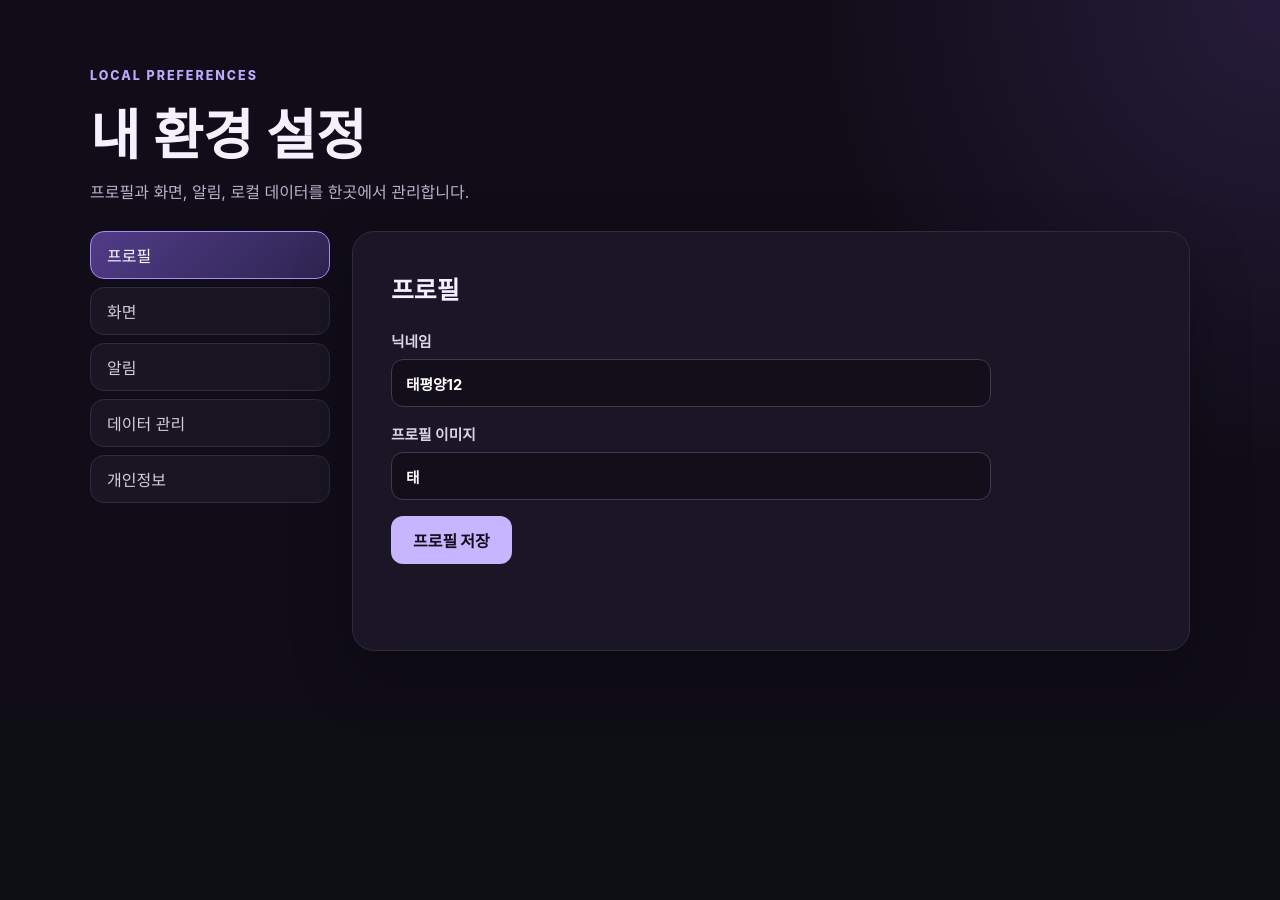
Test: 설정 화면 › 잘못된 알림 시간은 저장하지 않는다
Click the tab "알림" at (210, 367), box 90,343 -> 330,391
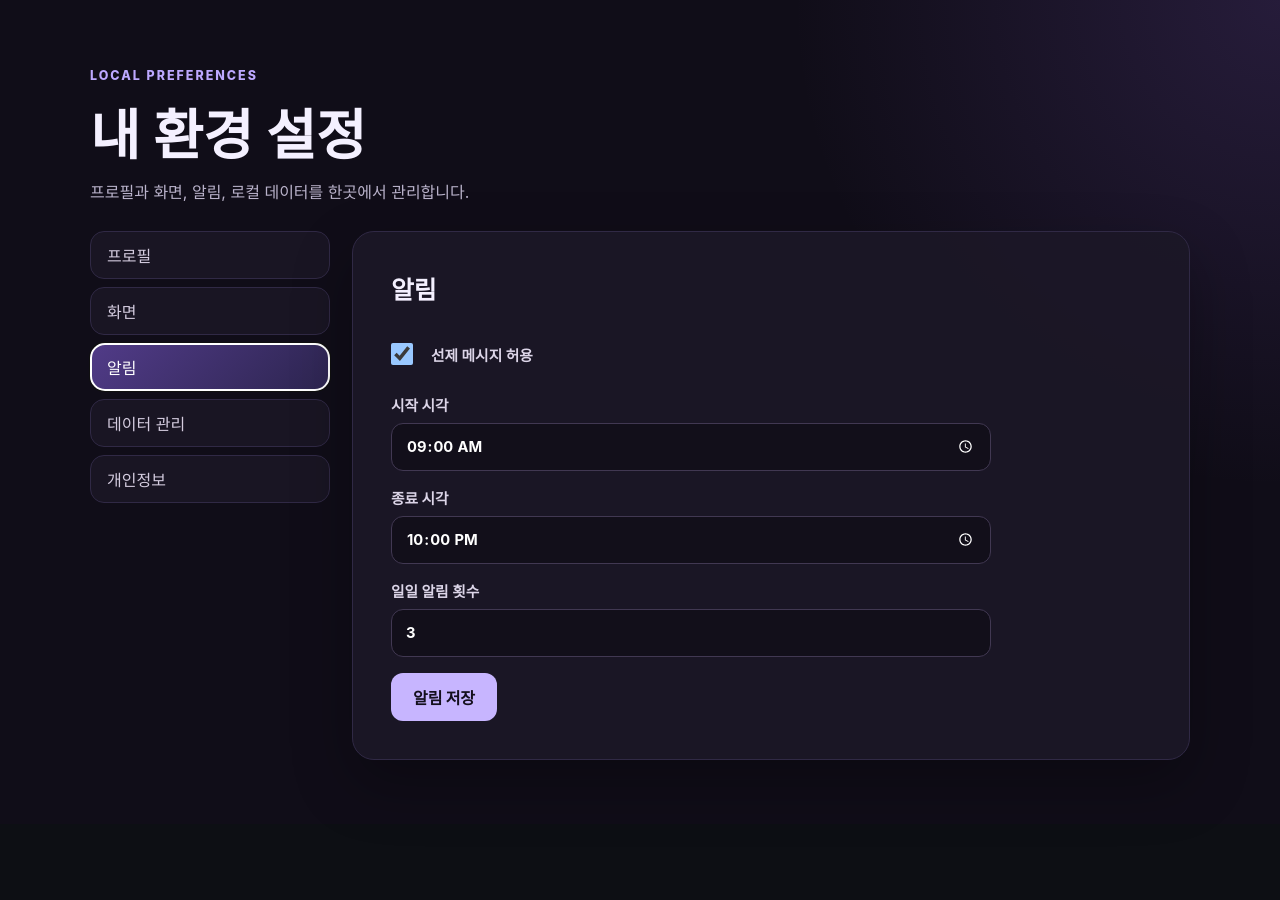
Replace the text in the time field labelled "시작 시각" with "22:00" at (691, 447), box 391,423 -> 991,471
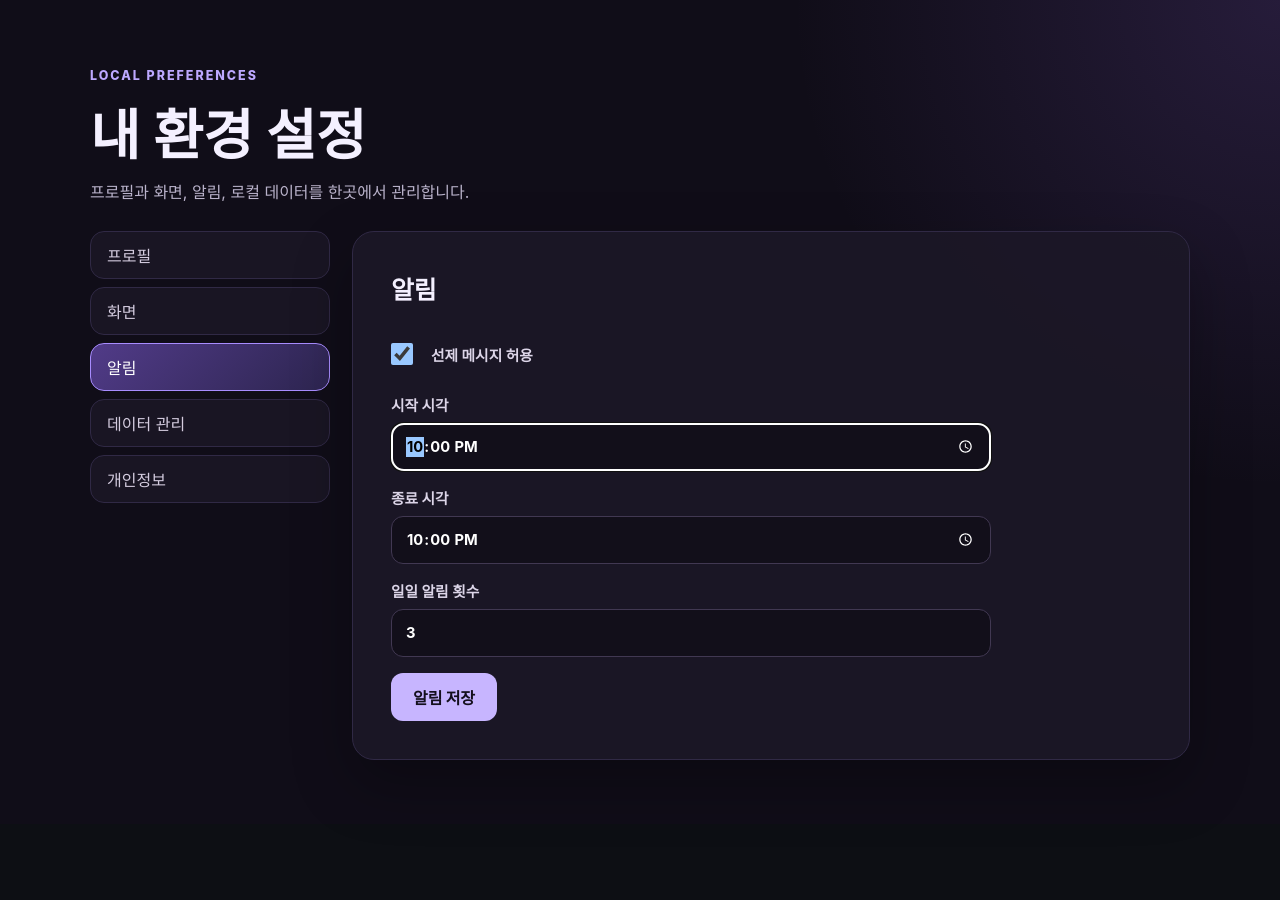
Replace the text in the time field labelled "종료 시각" with "09:00" at (691, 540), box 391,516 -> 991,564
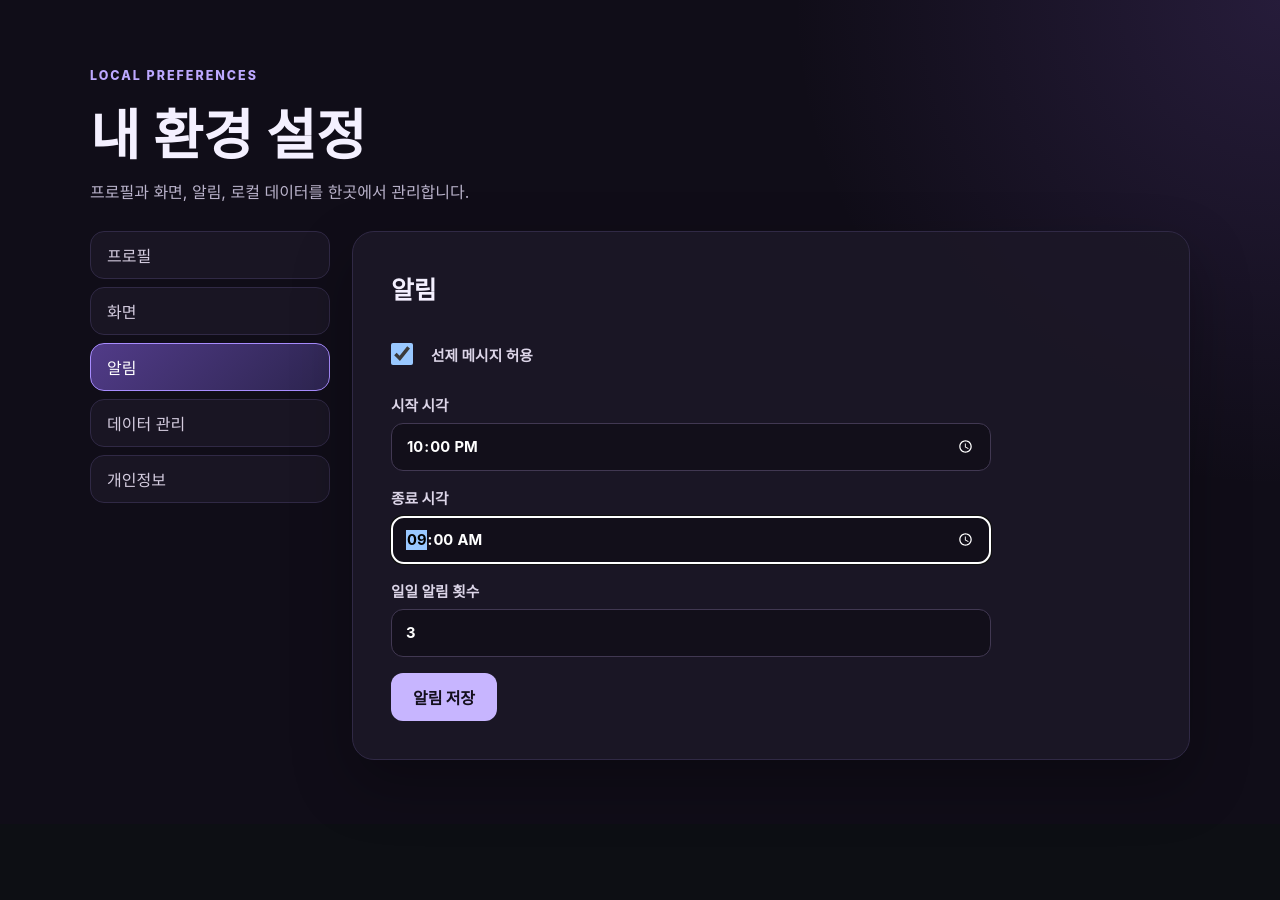
Click the button "알림 저장" at (444, 697), box 391,673 -> 497,721
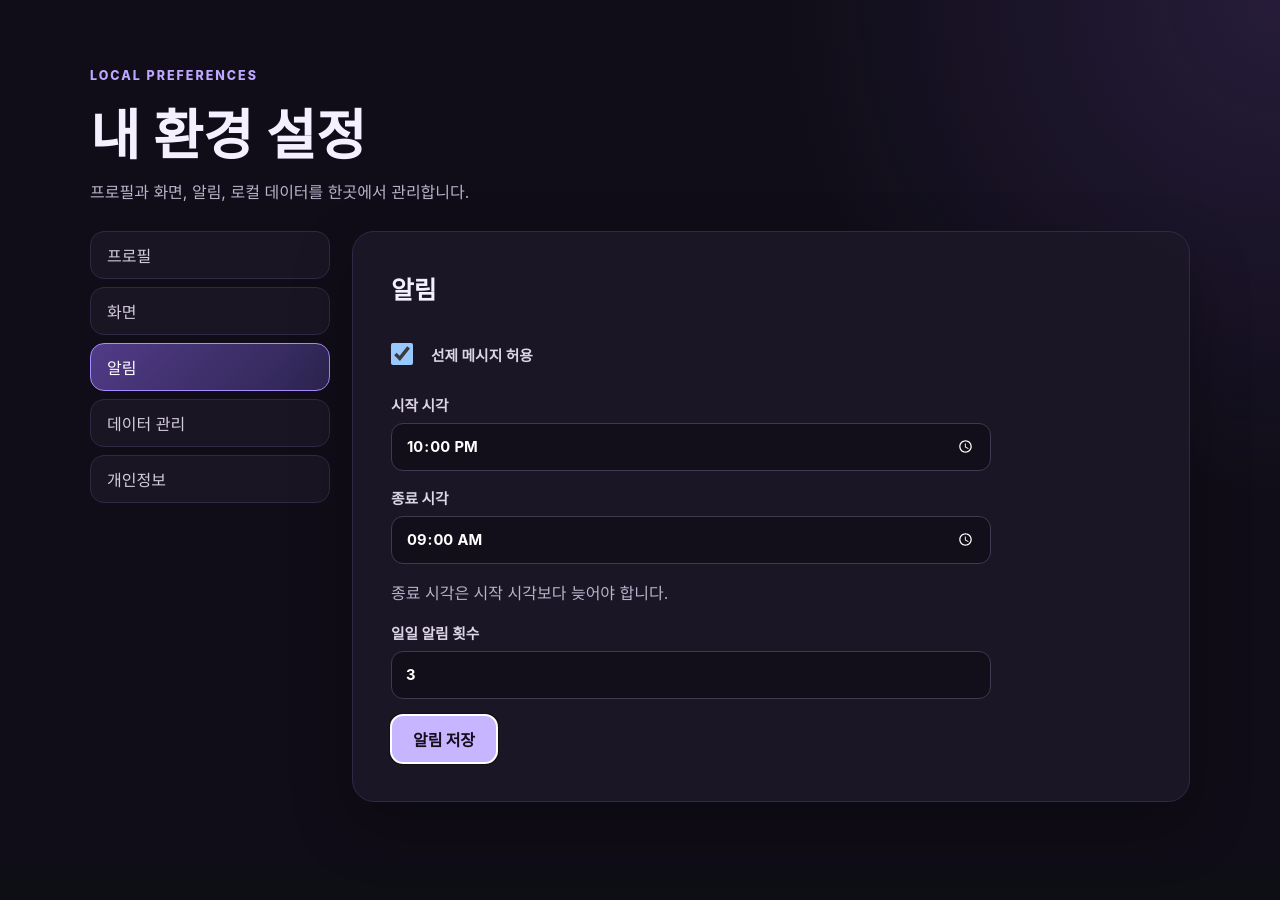
Expected: the text "종료 시각은 시작 시각보다 늦어야 합니다." is shown, 391,583 -> 668,603
